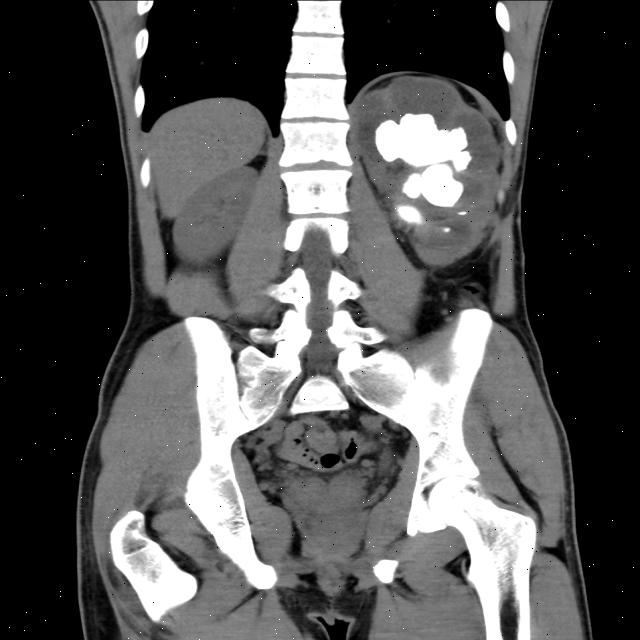kidneystone: (376, 114, 468, 166), (403, 165, 463, 206), (398, 206, 421, 222), (452, 151, 472, 169)
